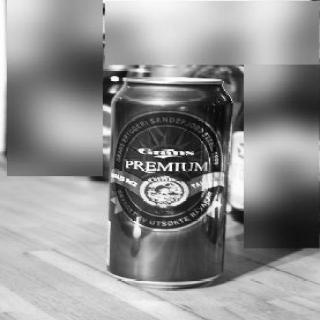alumunium_can: (108, 76, 235, 288)
